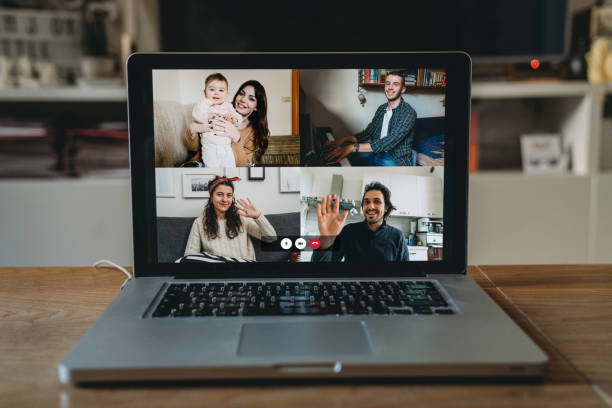without mask: (378, 72, 409, 104), (359, 191, 390, 223), (211, 182, 242, 214), (229, 84, 260, 116), (200, 72, 231, 104)
